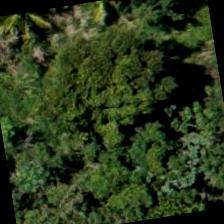Kelapa_Sawit: (170, 50, 223, 147)
